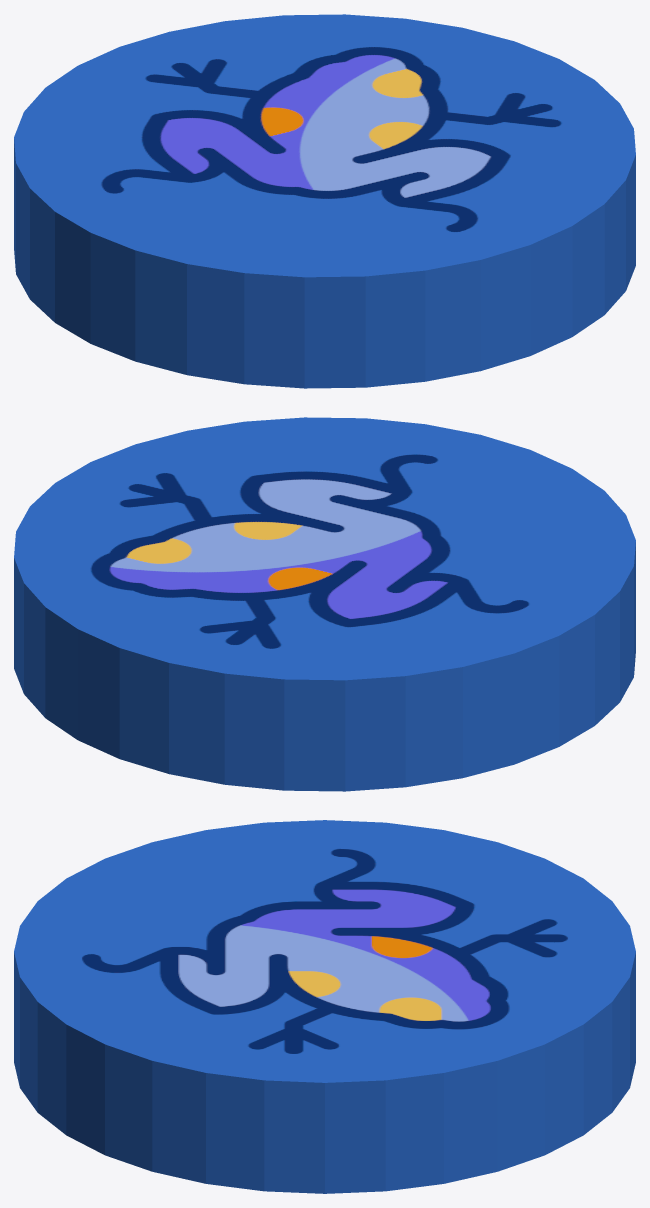
The model's file is puck3blue.glb.
3 renders of one model, top to bottom at view 1: azimuth 30°, elevation 25°; view 2: azimuth 150°, elevation 25°; view 3: azimuth 270°, elevation 25°, orthographic.
Parts seen in each view (by area): view 1: Cylinder; view 2: Cylinder; view 3: Cylinder.
Part boxes in pixels (x1,y1,x2,y2): Cylinder: [14, 14, 635, 388]; Cylinder: [14, 417, 635, 791]; Cylinder: [14, 820, 635, 1193].
Bounding box in the file's own units: 5.08 × 1 × 5.08.
Materials: 1 (1 with a texture image).
